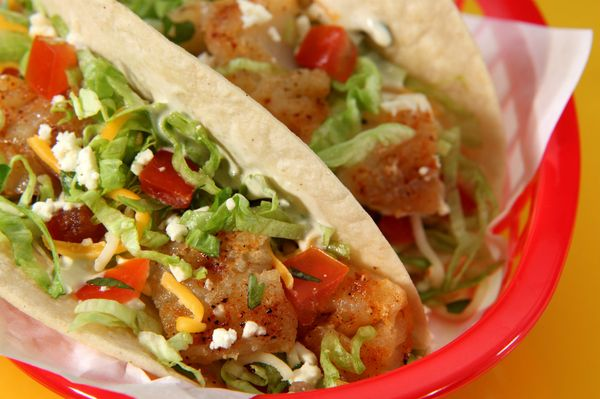sushi: (12, 0, 586, 396)
